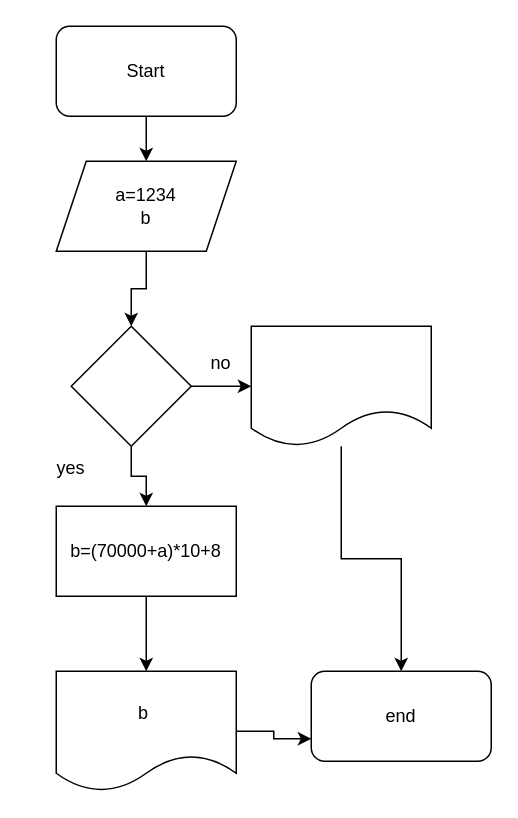
This 518x818 diagram has some shape labels left out. Here are the shapes that lost their labels. From the top down, the centre of each, then its label:
At [130,385]: "a>999 and a<10000".
At [340,385]: "teyin edilmeyib (4 reqemli deyil)".
